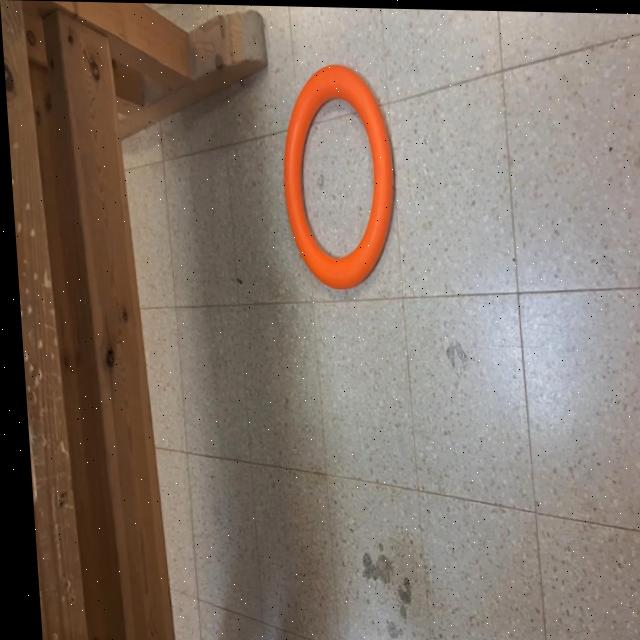note: (273, 62, 400, 292)
